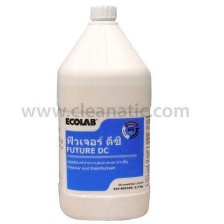cleaning_solution: (53, 1, 153, 223)
